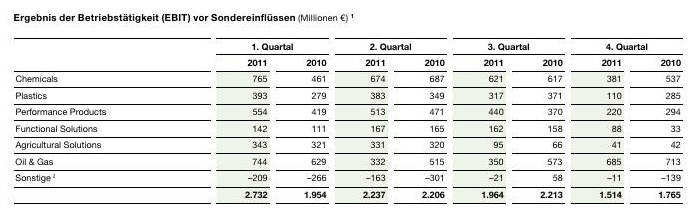table: (0, 0, 697, 214)
